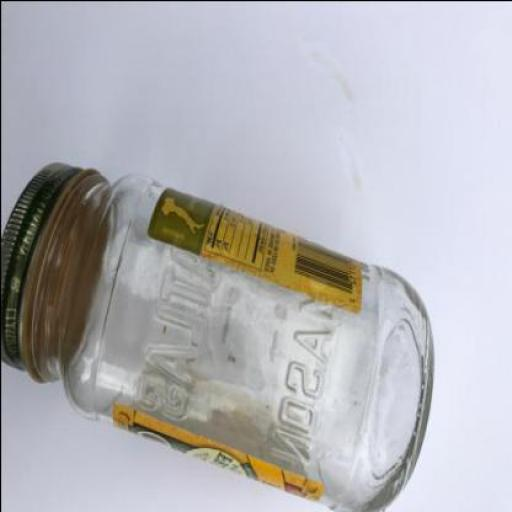glass: (20, 176, 434, 511)
metal: (1, 161, 97, 367)
